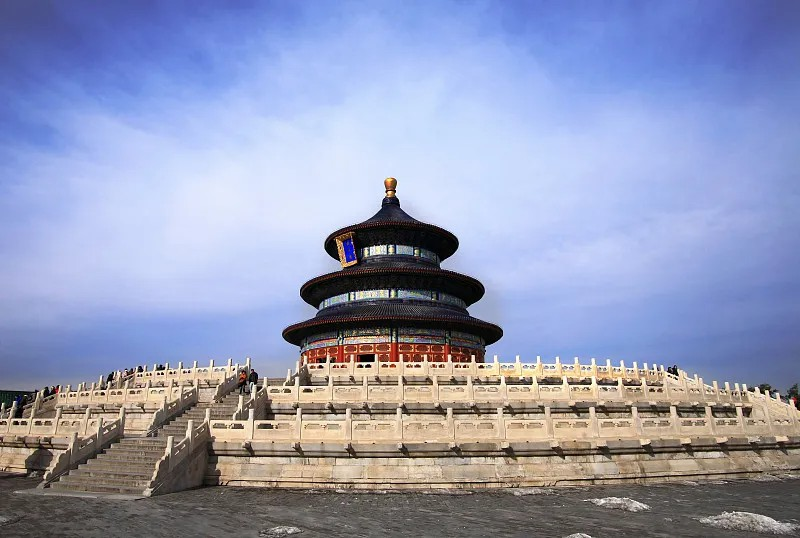Heaven: (282, 178, 503, 363)
